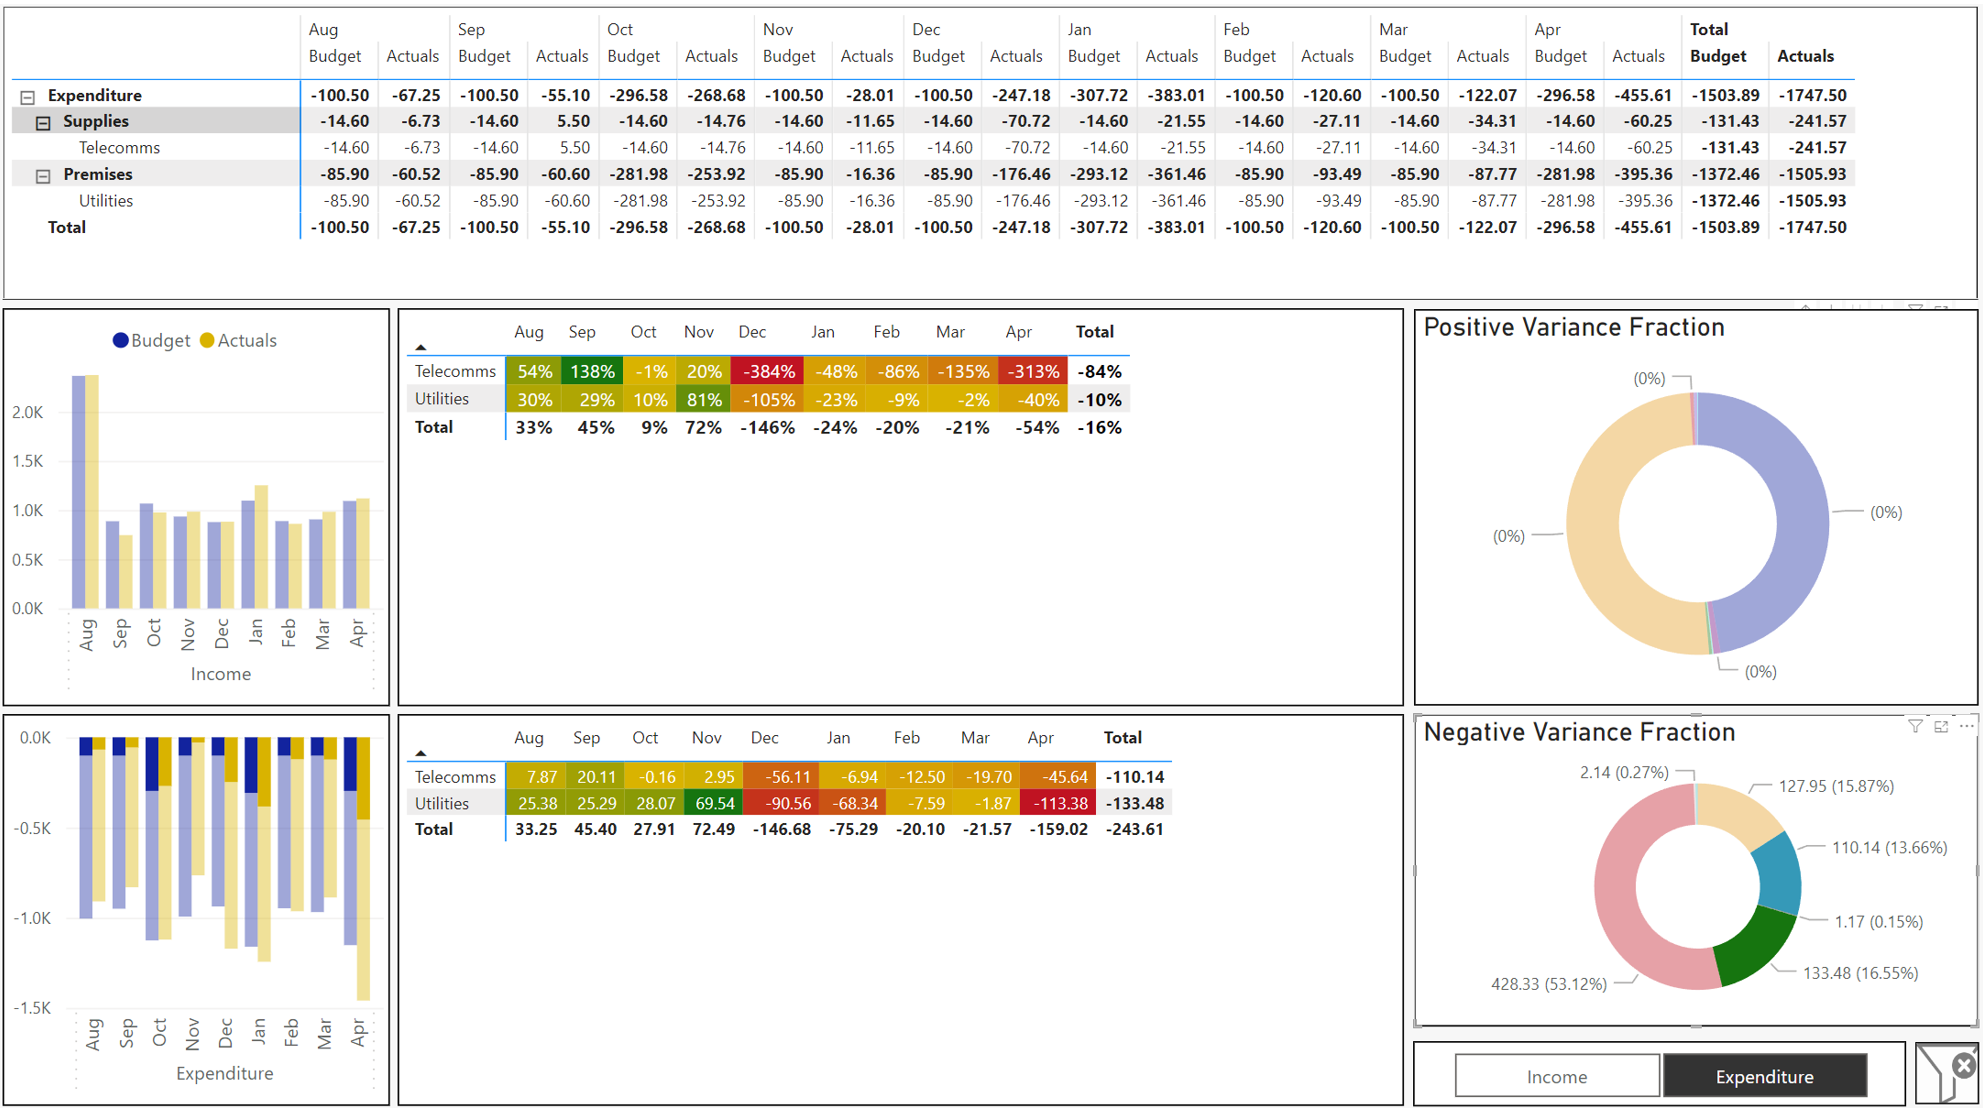

The page's visual inventory and layout, read from the dashboard file:
{"tool":"powerbi","page":{"name":"Page 1","canvas":[1280,720],"ordinal":0},"visuals":[{"type":"slicer","fields":{"Values":["IE_Data.IE"]},"box":[46.7,596.5,150.5,49.8],"z":0},{"type":"slicer","fields":{"Values":["IE_Data.IE"]},"box":[98.3,247.6,143.8,51.6],"z":1000},{"type":"clusteredColumnChart","title":"Income by Month","fields":{"Category":["IE_Data.IE","IE_Data.Month"],"Y":["Sum(IE_Data.Budget)","Sum(IE_Data.Actuals)"]},"box":[4.9,460.8,249.4,251.9],"z":2000},{"type":"clusteredColumnChart","title":"Income by Month","fields":{"Category":["IE_Data.IE","IE_Data.Month"],"Y":["IE_Data.Budget_ABS","IE_Data.Actuals_ABS"]},"box":[4.9,199.7,249.4,256.2],"z":3000},{"type":"pivotTable","fields":{"Rows":["IE_Data.IE","IE_Data.Category","IE_Data.Subcategory"],"Columns":["IE_Data.Month"],"Values":["Sum(IE_Data.Budget)","Sum(IE_Data.Actuals)"]},"box":[4.9,5.5,1269.8,188.6],"z":4000},{"type":"pivotTable","fields":{"Columns":["IE_Data.Month"],"Values":["IE_Data.Varience"],"Rows":["IE_Data.Subcategory"]},"box":[258.6,460.8,646.9,251.9],"z":5000},{"type":"pivotTable","fields":{"Rows":["IE_Data.Subcategory"],"Columns":["IE_Data.Month"],"Values":["IE_Data.Varience %"]},"box":[258.6,199.7,646.9,256.2],"z":6000},{"type":"slicer","fields":{"Values":["IE_Data.IE"]},"box":[911.7,670.9,317,41.8],"z":7000},{"type":"donutChart","title":"Positive Variance Fraction","fields":{"Y":["IE_Data.Variance_Positive"],"Category":["IE_Data.Subcategory"]},"box":[911.9,200.2,362.8,255.5],"z":8000},{"type":"donutChart","title":"Negative Variance Fraction","fields":{"Category":["IE_Data.Subcategory"],"Y":["IE_Data.Variance_Negative"]},"box":[911.9,460.9,362.8,201.5],"z":9000},{"type":"actionButton","box":[1234.2,671.5,40.5,39.9],"z":9001}]}

Visuals, with their boxes in screenshot pixels (x1, y1, x2, y2), scaled from the page's 1280x720 canvas onto the 1983x1113 screenshot:
slicer - IE_Data.IE: region(72, 922, 306, 999)
slicer - IE_Data.IE: region(152, 383, 375, 463)
"Income by Month" clusteredColumnChart: region(8, 712, 394, 1102)
"Income by Month" clusteredColumnChart: region(8, 309, 394, 705)
pivotTable - IE_Data.IE x IE_Data.Category: region(8, 9, 1975, 300)
pivotTable - IE_Data.Month x IE_Data.Varience: region(401, 712, 1403, 1102)
pivotTable - IE_Data.Subcategory x IE_Data.Month: region(401, 309, 1403, 705)
slicer - IE_Data.IE: region(1412, 1037, 1904, 1102)
"Positive Variance Fraction" donutChart: region(1413, 309, 1975, 704)
"Negative Variance Fraction" donutChart: region(1413, 712, 1975, 1024)
actionButton: region(1912, 1038, 1975, 1100)
